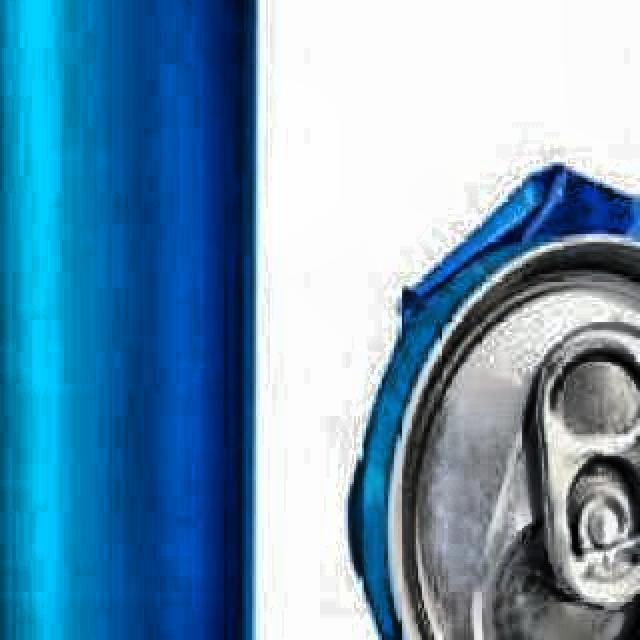metal: (0, 0, 274, 640), (338, 114, 640, 640)
